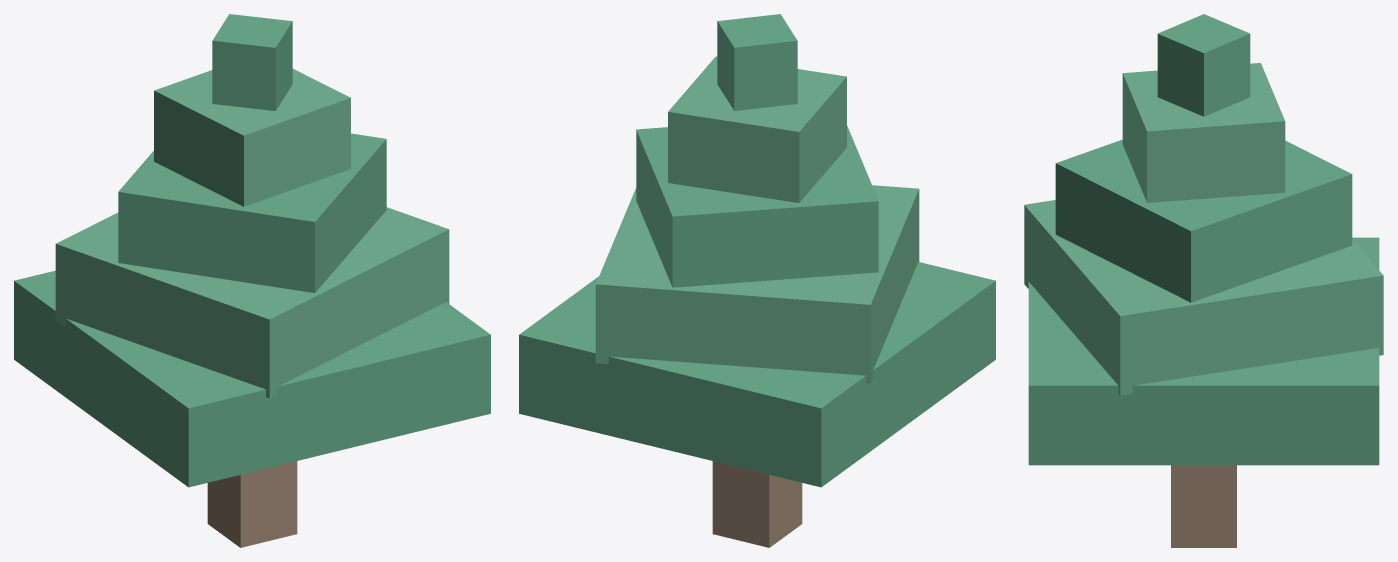
File: TreePine.fbx
The picture shows the model from 3 angles, left to right: view 1: azimuth 30°, elevation 25°; view 2: azimuth 150°, elevation 25°; view 3: azimuth 270°, elevation 25°; orthographic projection.
Parts seen in each view (by area): view 1: Needles, Needles.001, Needles.002, Needles.003, Needles.004, Trunk.001; view 2: Needles, Needles.001, Needles.002, Needles.003, Needles.004, Trunk.001; view 3: Needles, Needles.001, Needles.002, Needles.003, Needles.004, Trunk.001.
Part boxes in pixels (x1,y1,x2,y2): Needles: (14, 270, 490, 487); Needles.001: (55, 207, 449, 398); Needles.002: (118, 133, 386, 292); Needles.003: (154, 69, 350, 206); Needles.004: (212, 14, 292, 110); Trunk.001: (207, 461, 297, 547); Needles: (519, 262, 995, 487); Needles.001: (595, 185, 919, 383); Needles.002: (636, 125, 878, 287); Needles.003: (668, 56, 846, 202); Needles.004: (717, 14, 797, 110); Trunk.001: (712, 461, 802, 547); Needles: (1028, 237, 1379, 465); Needles.001: (1024, 200, 1383, 395); Needles.002: (1055, 139, 1352, 302); Needles.003: (1122, 63, 1285, 202); Needles.004: (1157, 14, 1250, 116); Trunk.001: (1171, 465, 1236, 547).
Bounding box in the file's own units: 230 × 353 × 230.
